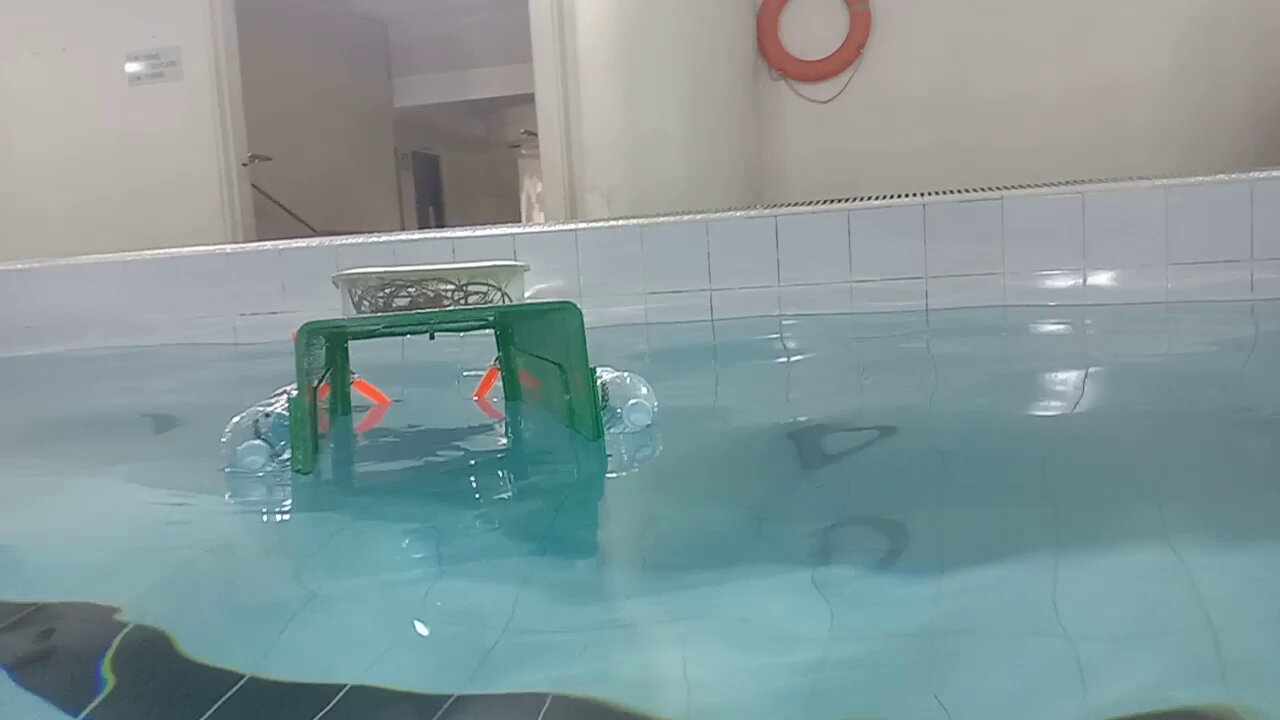drone: (215, 253, 660, 487)
